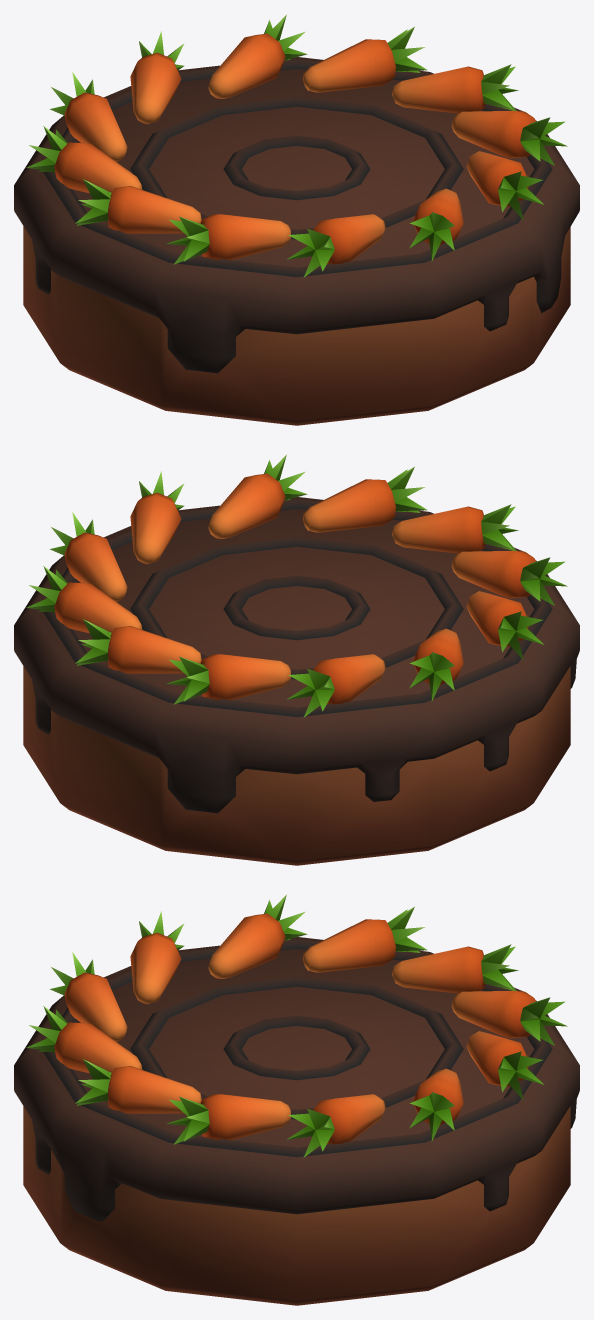
File: m_CarrotCake02.fbx
3 renders of one model, top to bottom at view 1: azimuth 30°, elevation 25°; view 2: azimuth 150°, elevation 25°; view 3: azimuth 270°, elevation 25°, orthographic.
Parts seen in each view (by area): view 1: m_CarrotCake02; view 2: m_CarrotCake02; view 3: m_CarrotCake02.
Part boxes in pixels (left/top/right/bottom): m_CarrotCake02: left=14, top=14, right=579, bottom=425; m_CarrotCake02: left=14, top=454, right=579, bottom=865; m_CarrotCake02: left=14, top=894, right=579, bottom=1305.
Bounding box in the file's own units: 28.97 × 10.91 × 28.97.
